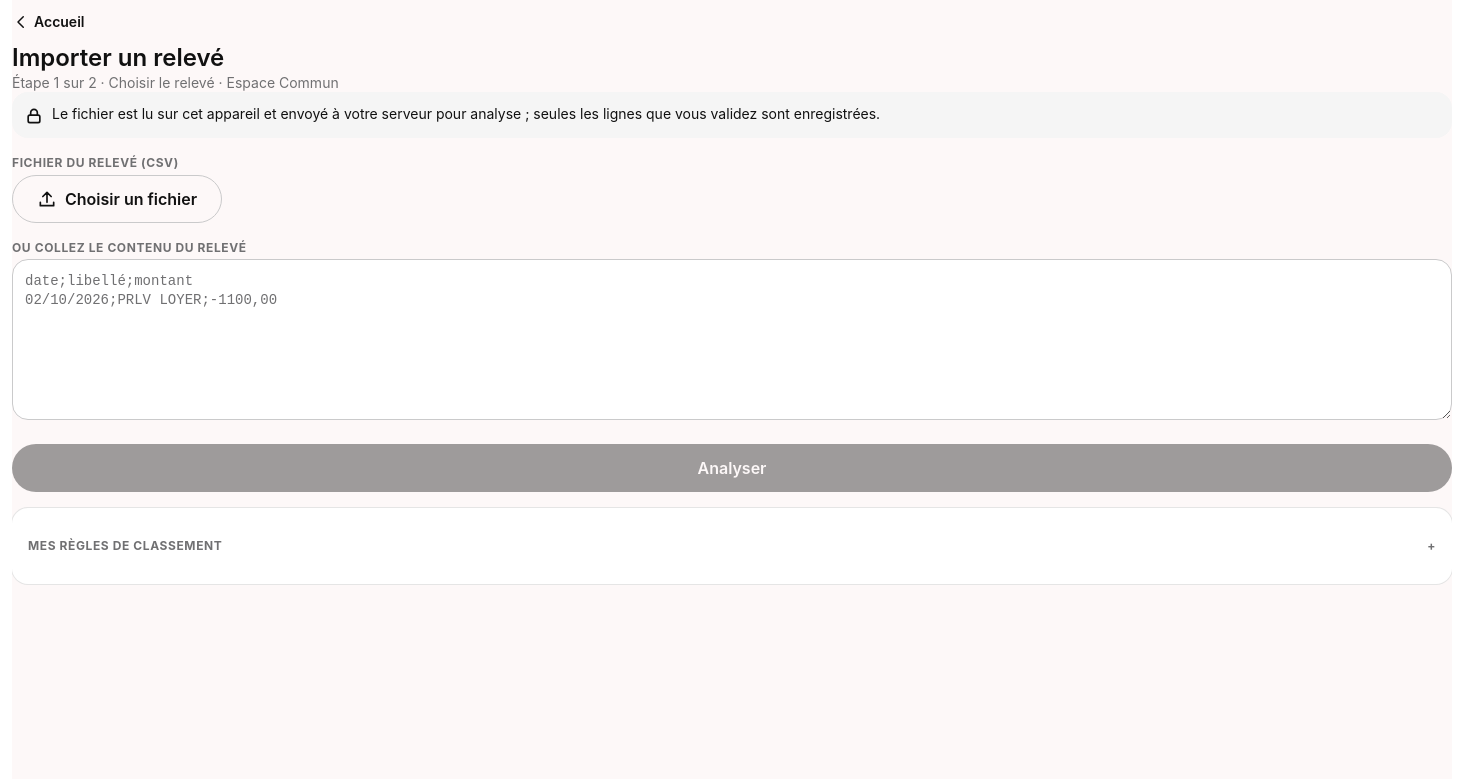
it: ImportPage › rules section › lists the rules lazily and tells when they are the default ones
Click the button "Mes règles de classement +" at (125, 545), box [28,524,1436,568]
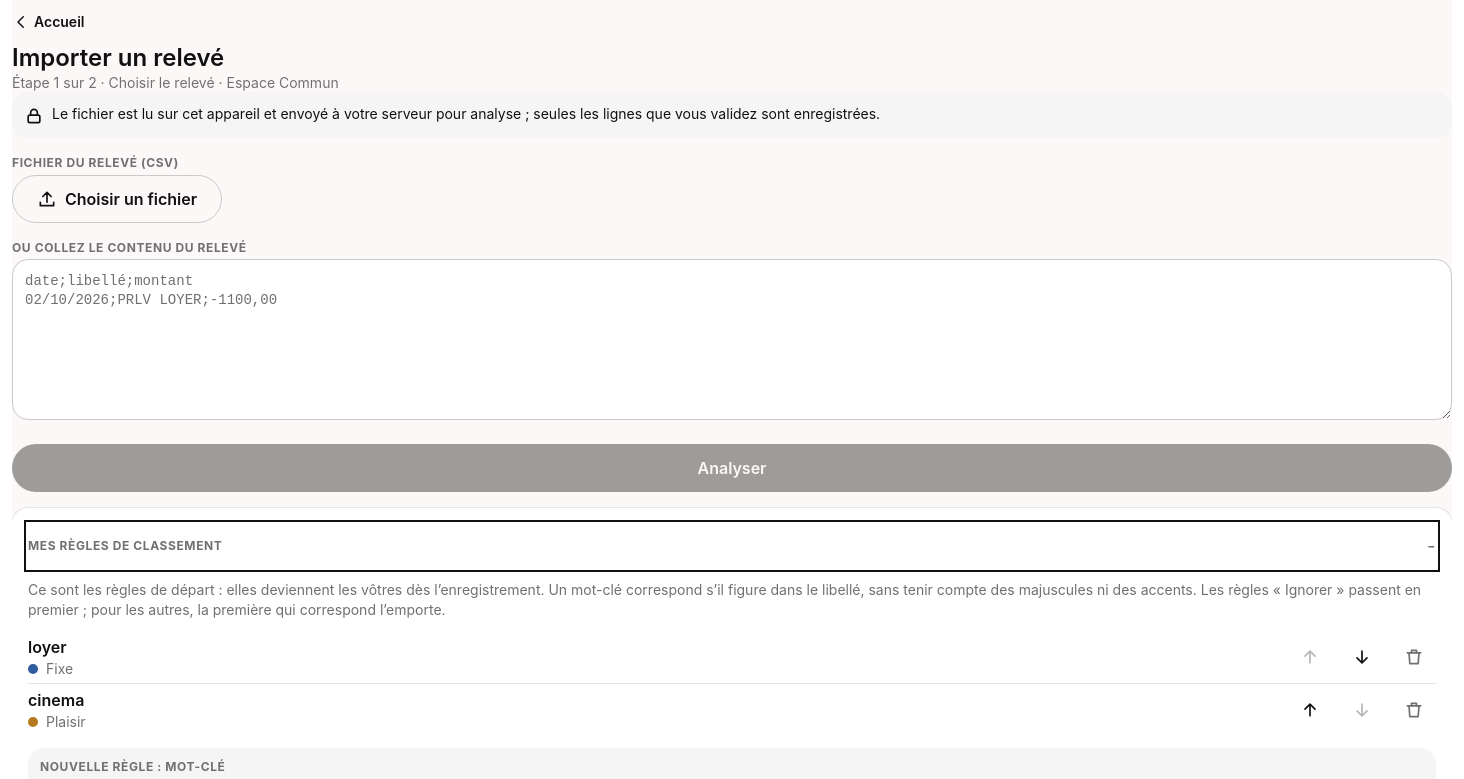
Now the text "règles de départ" is shown, box [28,581,544,598]
Now the number of list items is 2, box [28,631,1436,683]; [28,683,1436,736]
